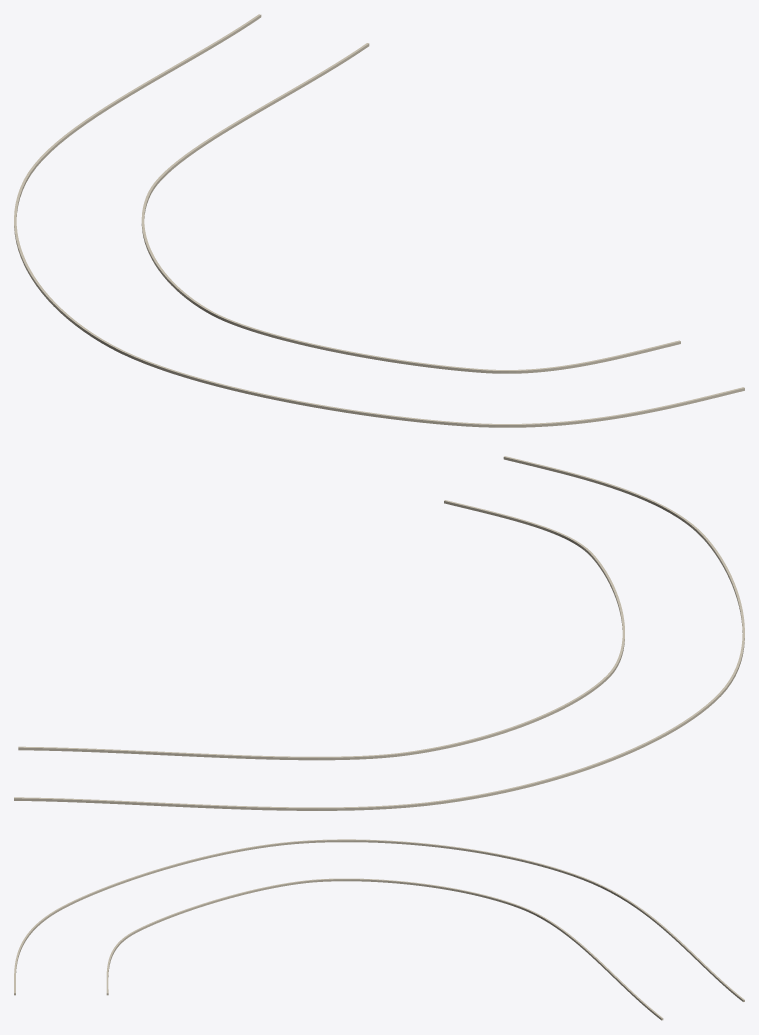
The model's file is continuation_west_curb.glb.
3 views of the same model, one above another, from view 1: azimuth 30°, elevation 25°; view 2: azimuth 150°, elevation 25°; view 3: azimuth 270°, elevation 25° (orthographic). The views are drawn at different scales.
Visible parts, largest first — view 1: continuation_west_curb_Mesh; view 2: continuation_west_curb_Mesh; view 3: continuation_west_curb_Mesh.
Boxes of the visible parts, box(x1,y1,x2,y2) form: continuation_west_curb_Mesh: box(14, 14, 744, 427); continuation_west_curb_Mesh: box(14, 456, 744, 810); continuation_west_curb_Mesh: box(14, 839, 744, 1020).
Bounding box in the file's own units: 33.68 × 0.17 × 58.07.
